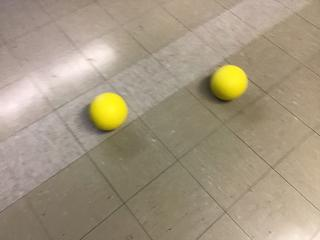power_cell: (89, 93, 130, 132), (209, 63, 248, 100)
